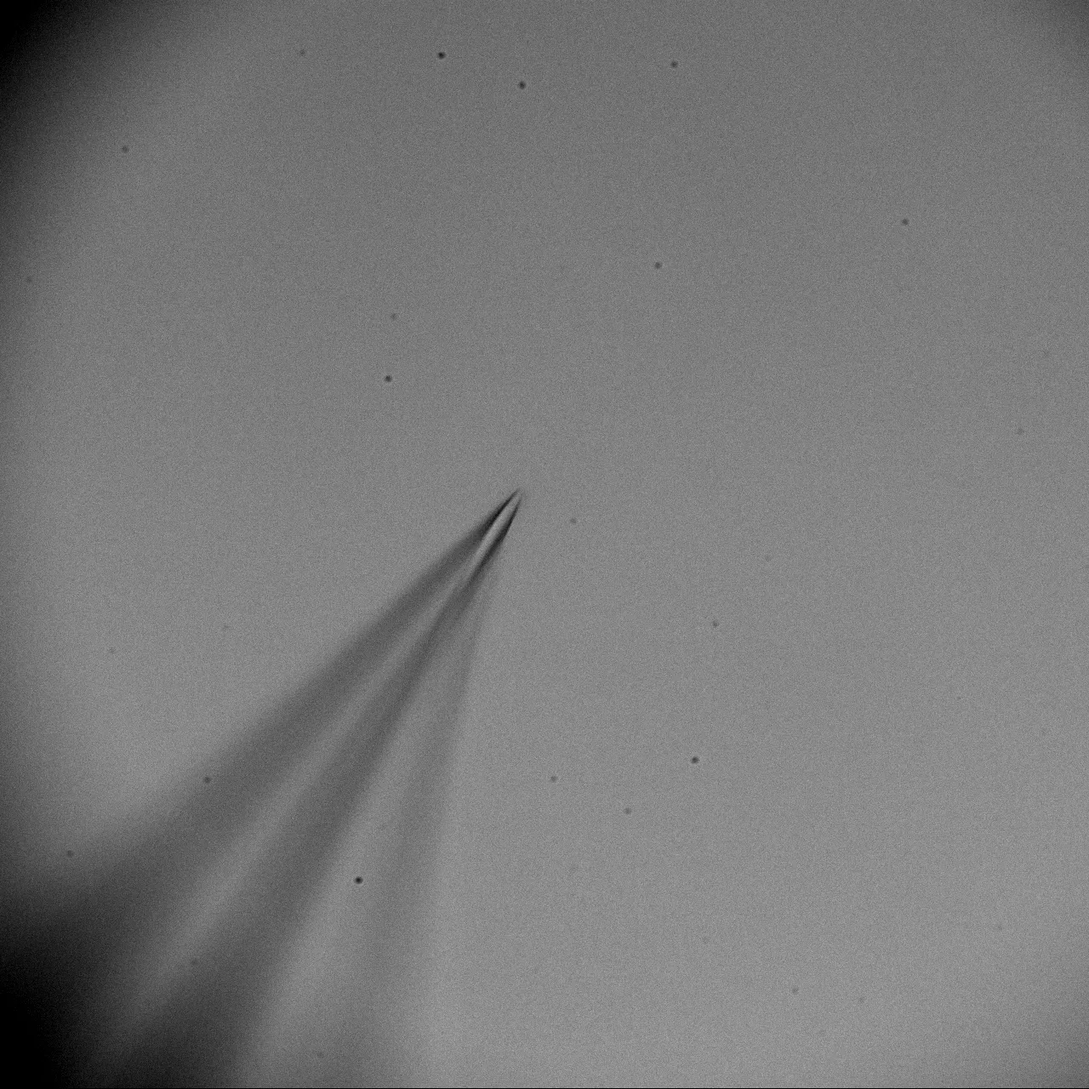tip: (445, 475, 535, 596)
